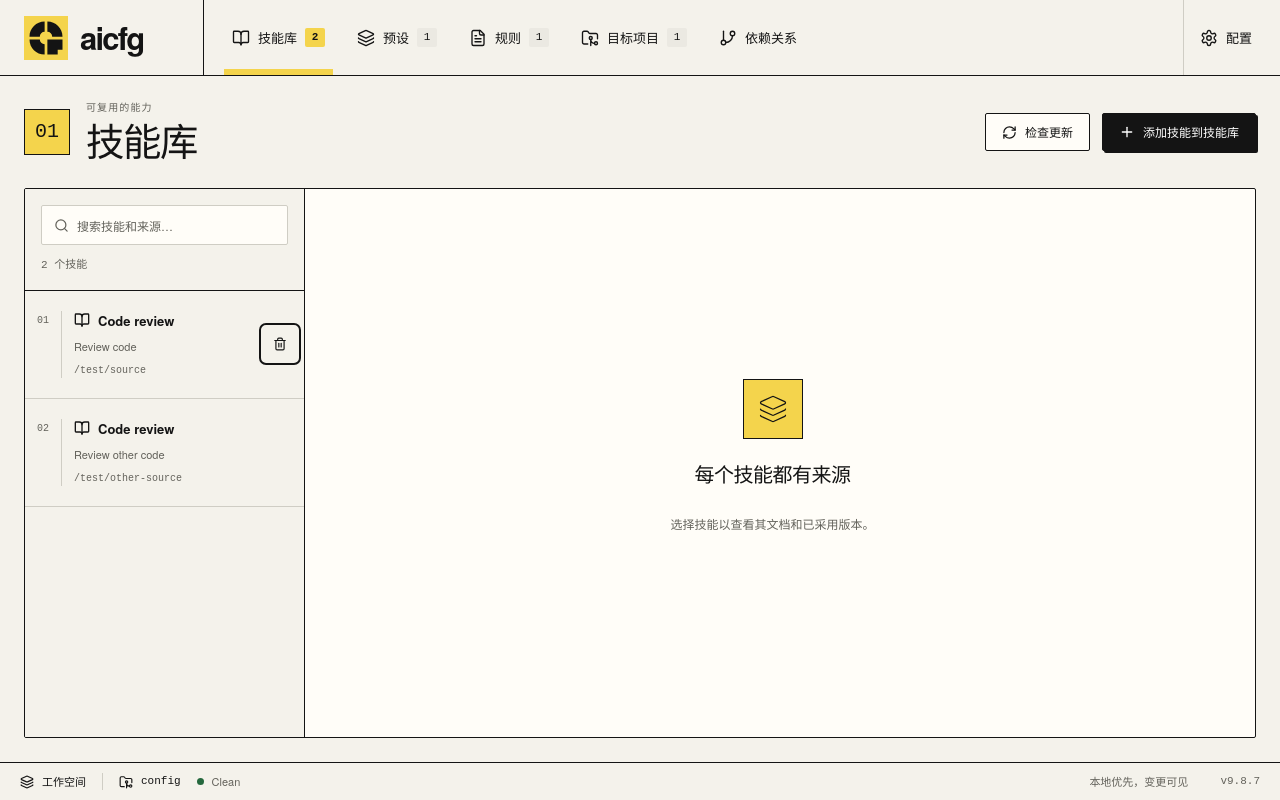
Test: Localized deletion confirmations (zh) › translates a failed deletion inside the confirmation
Click the button named "删除 Code review" at [280, 344], box x1=264 y1=328 x2=296 y2=360
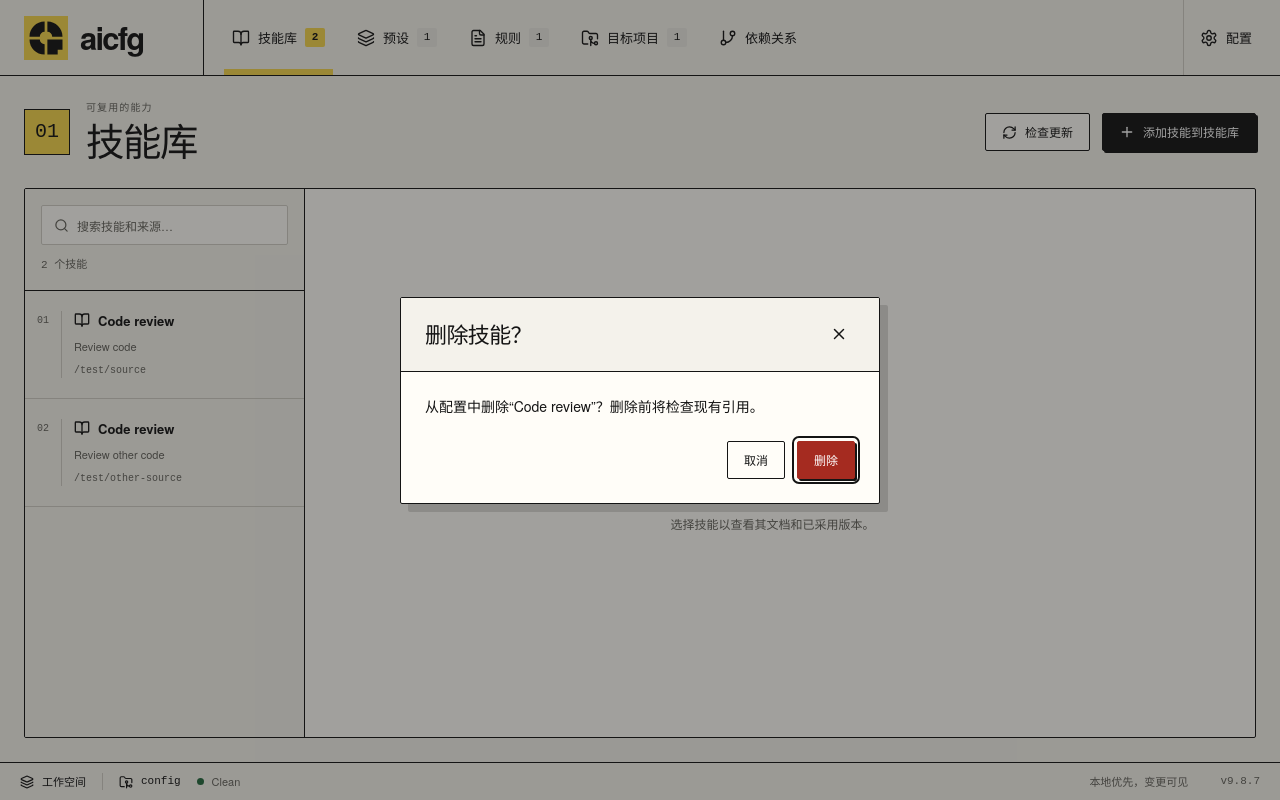
Click the button "删除" at [826, 460], box x1=797 y1=440 x2=855 y2=478
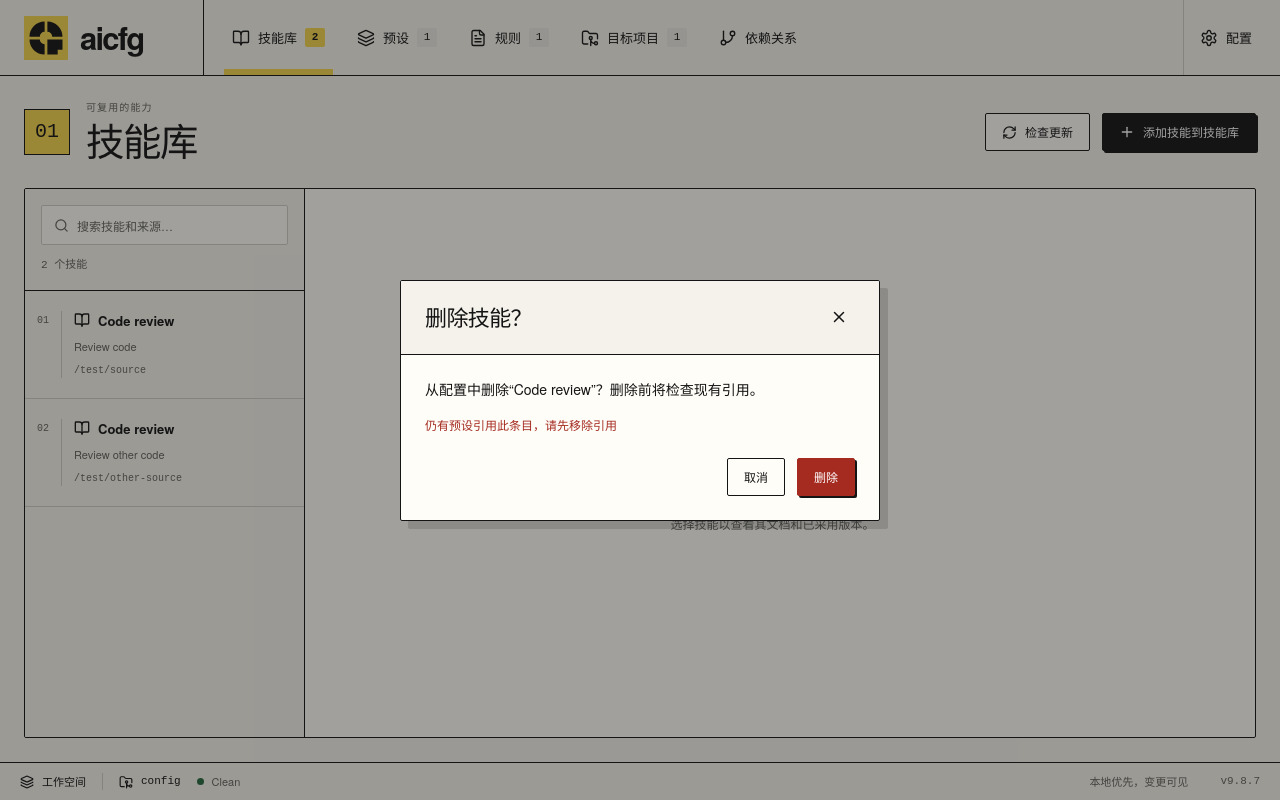
expect the button "取消" is enabled: met, box x1=727 y1=458 x2=785 y2=496
expect the message "仍有预设引用此条目，请先移除引用" is shown: met, box x1=425 y1=416 x2=617 y2=432
